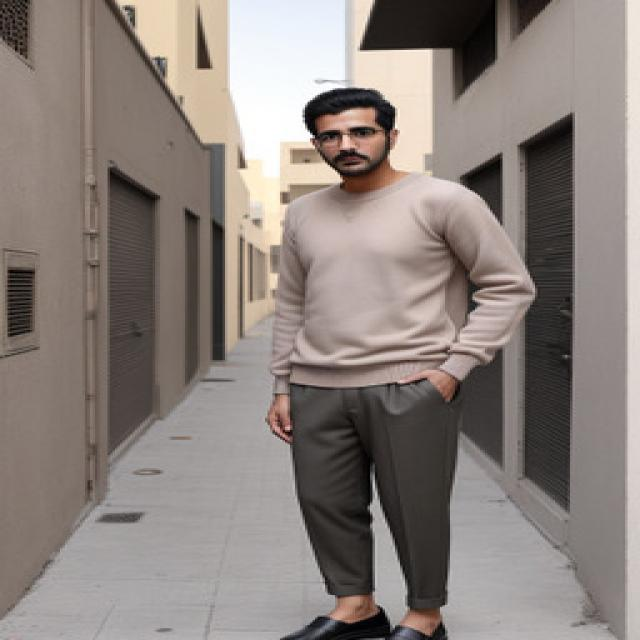Ai human 2: (259, 74, 557, 640)
